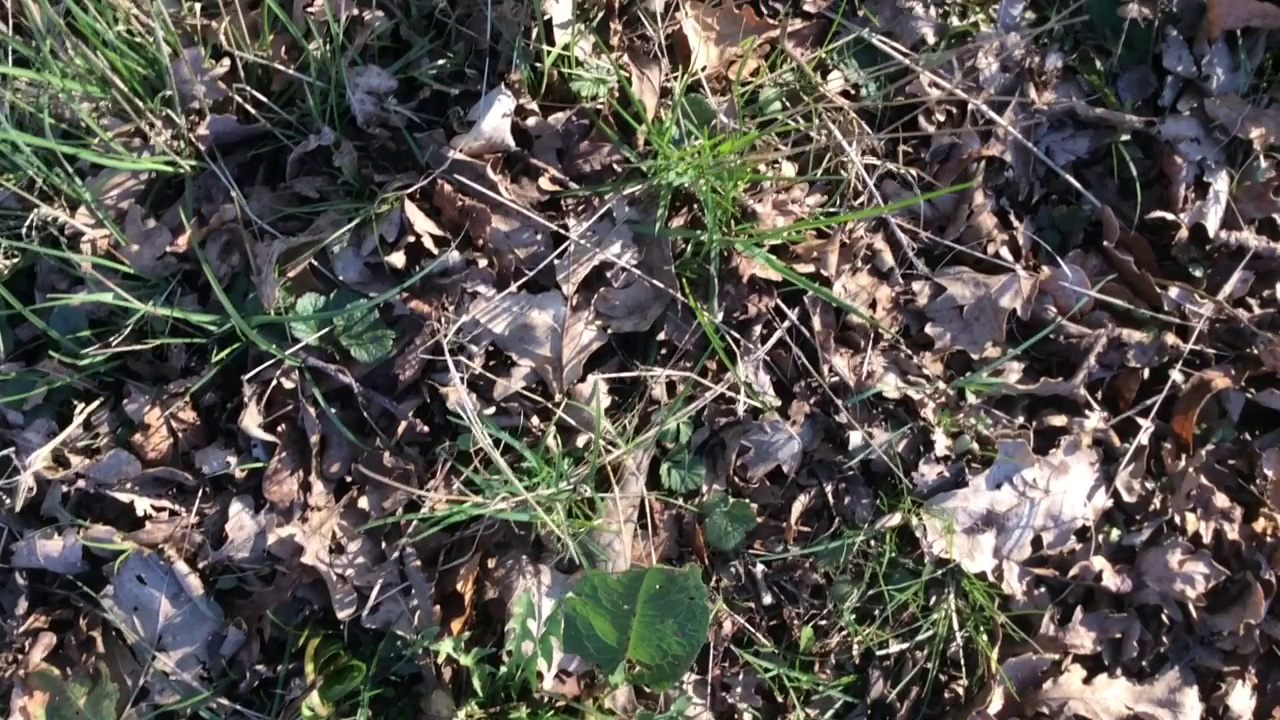rumex: (550, 569, 711, 684)
